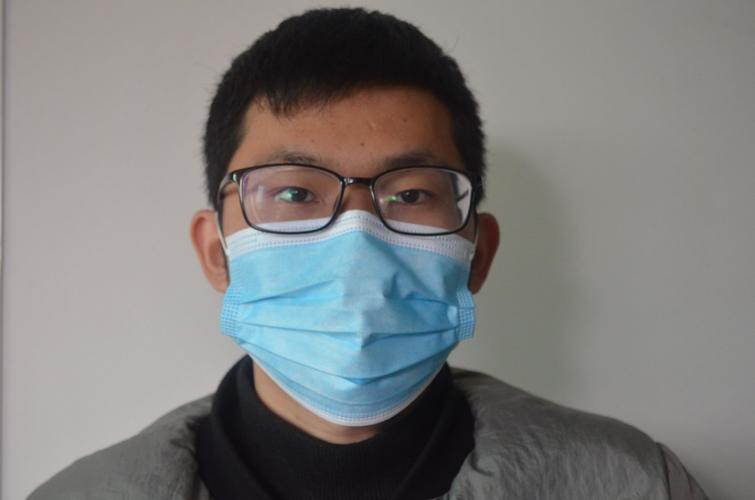mask: (219, 99, 482, 418)
